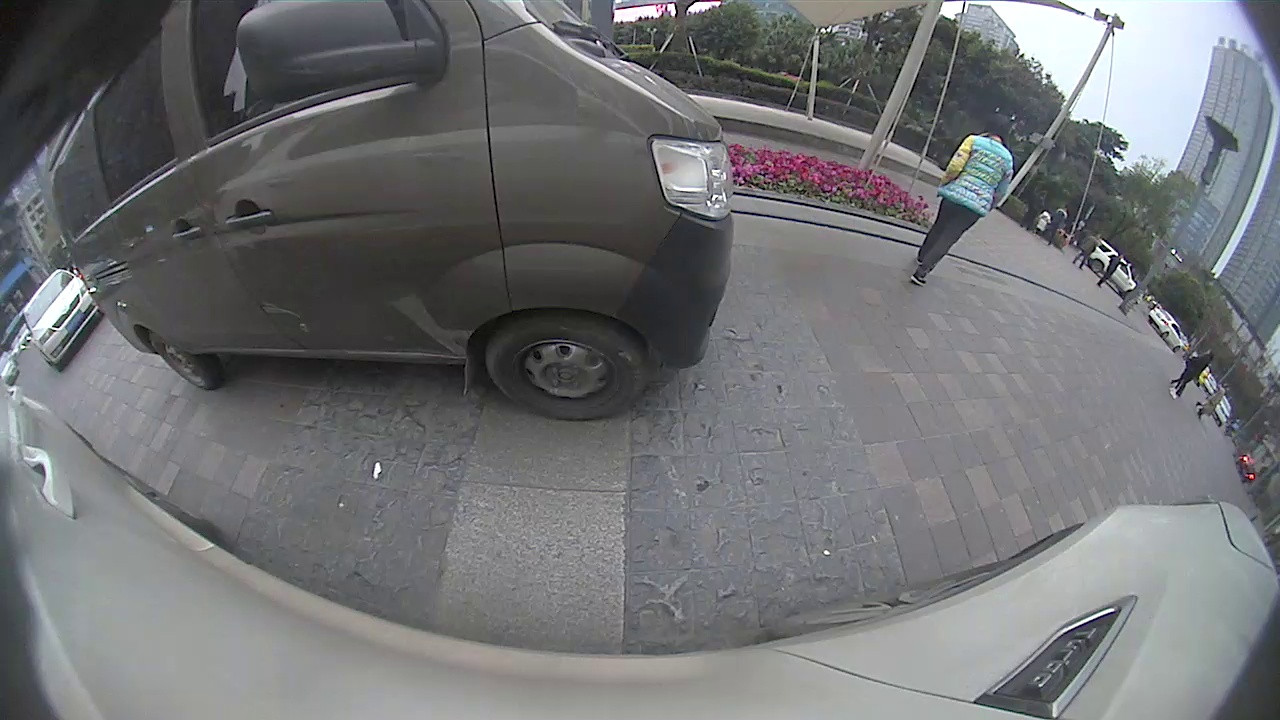car: (50, 1, 734, 422), (21, 268, 102, 370)
front: (487, 314, 646, 422)
person: (908, 112, 1014, 286)
rear: (152, 331, 221, 390)
